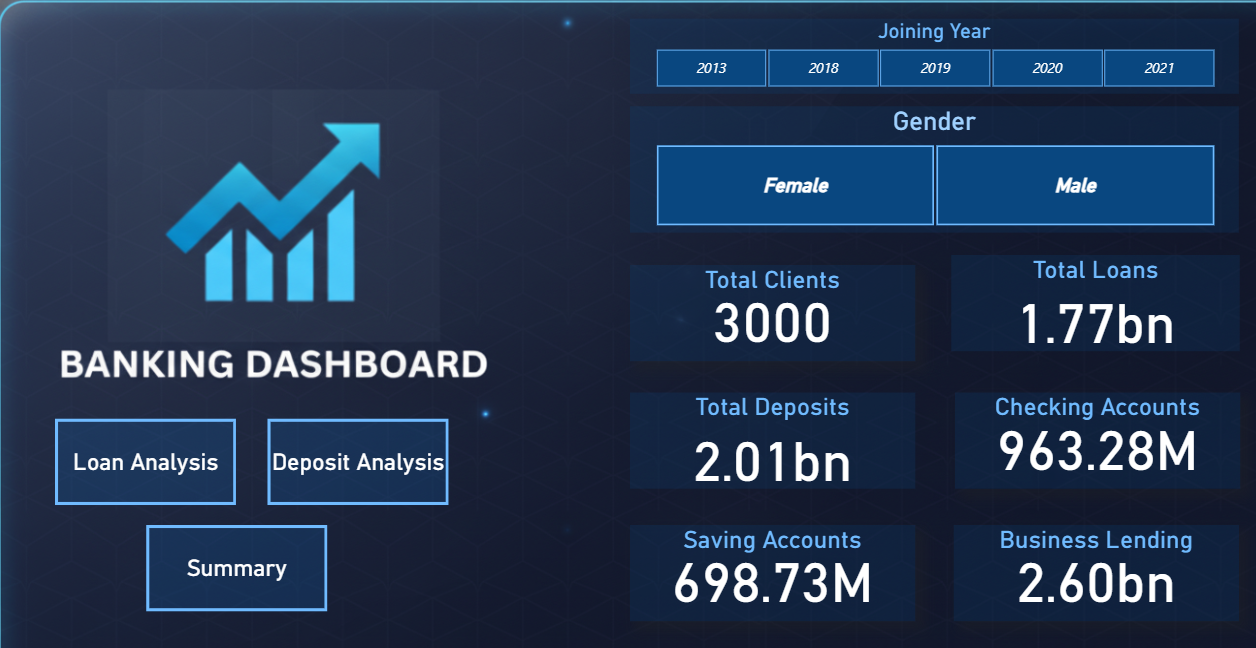

This screenshot's page, from the dashboard's own definition file:
{"tool":"powerbi","page":{"name":"Home","canvas":[1280,720],"ordinal":0},"visuals":[{"type":"card","title":"Total Clients","fields":{"Values":["banking_case customer.Name"]},"box":[623.3,265,279.8,94.5],"z":0},{"type":"slicer","title":"Gender","fields":{"Values":["banking_case customer.GenderId"]},"box":[623.3,109.2,597.5,123.9],"z":1000},{"type":"card","title":"Total Loans","fields":{"Values":["banking_case customer.Bank Loans"]},"box":[938.7,255.2,283.4,94.5],"z":2000},{"type":"card","title":"Total Deposits","fields":{"Values":["banking_case customer.Bank Deposits"]},"box":[623.3,390.2,279.8,94.5],"z":3000},{"type":"slicer","title":"Joining Year","fields":{"Values":["banking_case customer.Year Of Joining"]},"box":[623.3,23.3,597.5,73.6],"z":4000},{"type":"card","title":"Checking Accounts","fields":{"Values":["banking_case customer.Checking Accounts"]},"box":[942.3,390.2,279.8,94.5],"z":5000},{"type":"card","title":"Saving Accounts","fields":{"Values":["banking_case customer.Saving Accounts"]},"box":[623.3,520.2,279.8,94.5],"z":6000},{"type":"card","title":"Business Lending","fields":{"Values":["banking_case customer.Business Lending"]},"box":[941.1,520.2,279.8,94.5],"z":7000},{"type":"actionButton","title":"Loan Analysis","box":[58.9,416,177.9,84.7],"z":8000},{"type":"actionButton","title":"Loan Analysis","box":[267.5,416,177.9,84.7],"z":9000},{"type":"actionButton","title":"Loan Analysis","box":[148.5,520.2,177.9,84.7],"z":10000}]}

Visuals, with their boxes on the page's 1280x720 design canvas (x1, y1, x2, y2). These are canvas units, not pixel positions in the 1256x648 screenshot, which may show the page scaled, cropped or inside an application window:
"Total Clients" card: 623:265:903:360
"Gender" slicer: 623:109:1221:233
"Total Loans" card: 939:255:1222:350
"Total Deposits" card: 623:390:903:485
"Joining Year" slicer: 623:23:1221:97
"Checking Accounts" card: 942:390:1222:485
"Saving Accounts" card: 623:520:903:615
"Business Lending" card: 941:520:1221:615
"Loan Analysis" actionButton: 59:416:237:501
"Loan Analysis" actionButton: 268:416:445:501
"Loan Analysis" actionButton: 148:520:326:605
